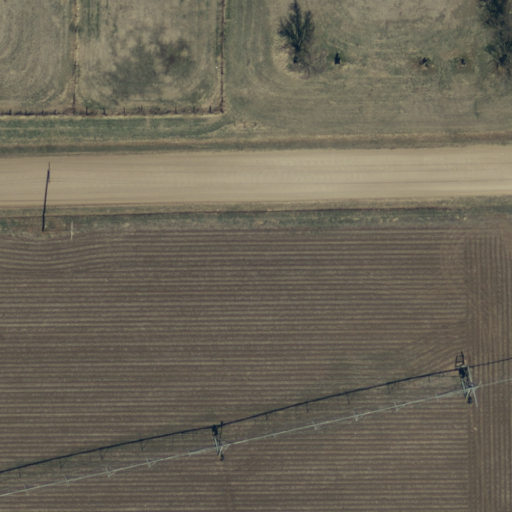DT: (36, 213, 79, 248)
